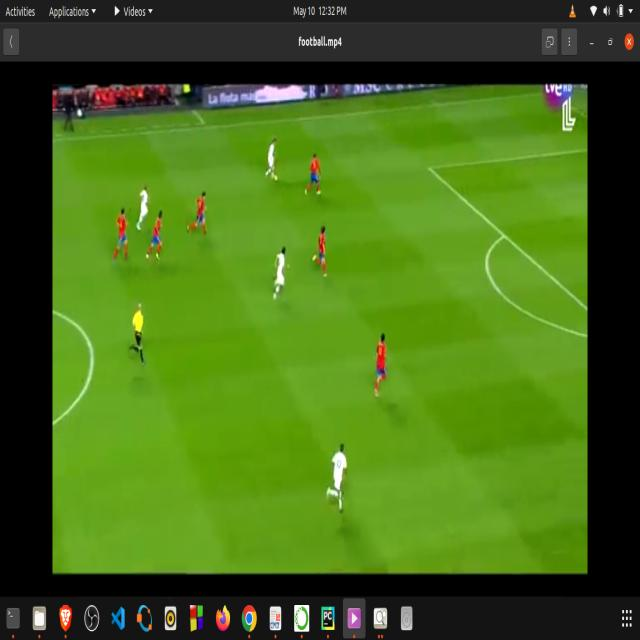Ball: (273, 172, 280, 184)
Refree: (128, 297, 154, 370)
football-players: (324, 436, 352, 522), (368, 325, 393, 403), (185, 185, 211, 244), (311, 219, 330, 284), (148, 208, 168, 266), (113, 201, 131, 264), (303, 150, 325, 201), (271, 243, 290, 302), (264, 134, 284, 185), (135, 182, 152, 237)
